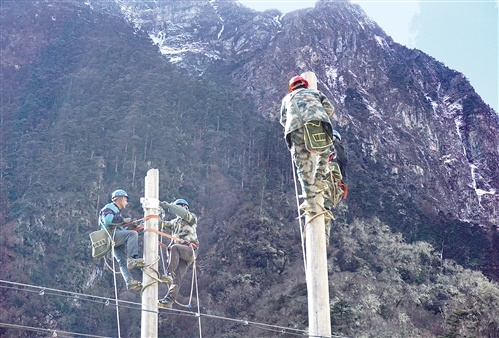blue: (109, 187, 129, 209), (172, 197, 190, 214)
red: (288, 74, 308, 92)
